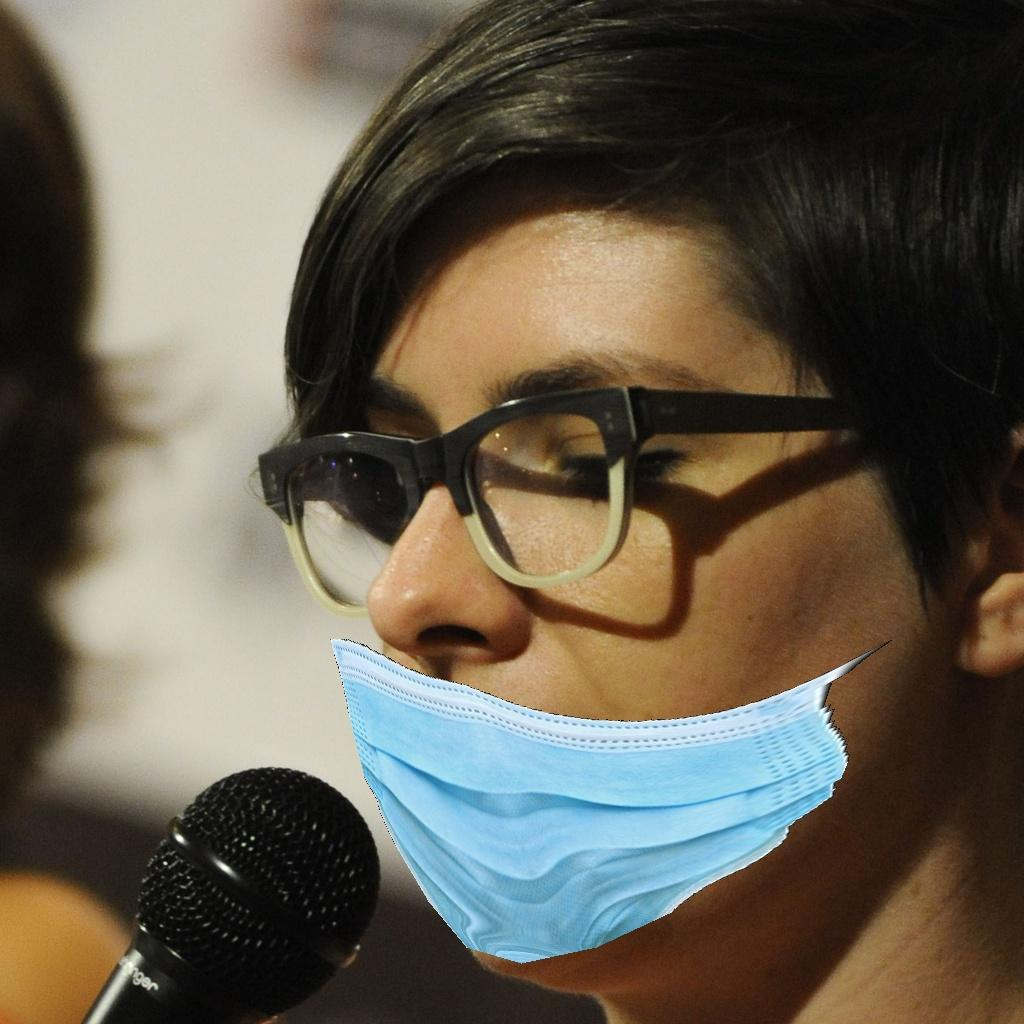Máscara Incorreta: (302, 304, 881, 938)
